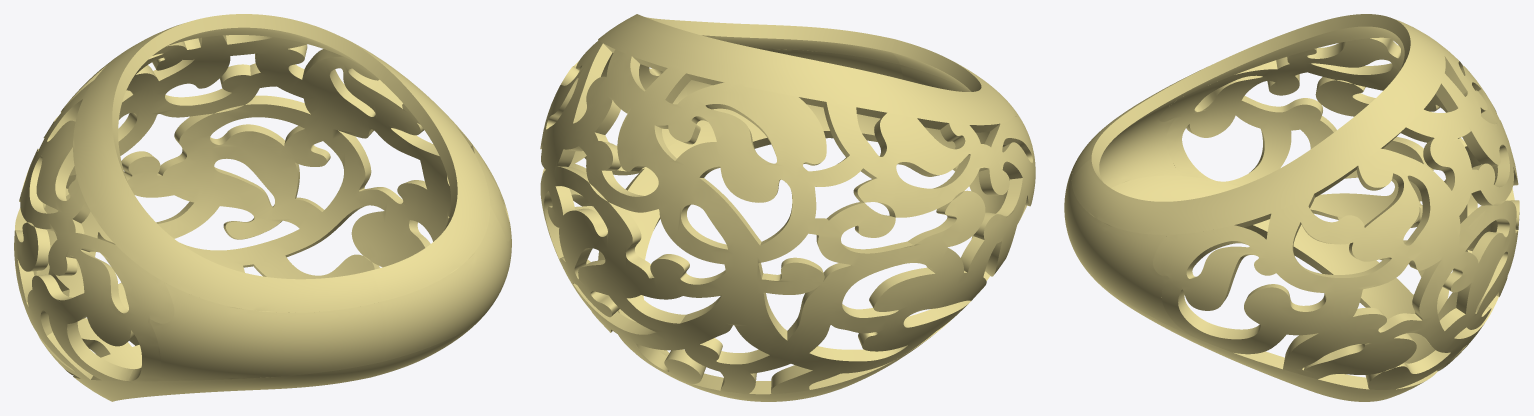
File: anelestamparia.glb
3 views of the same model, side by side, from view 1: azimuth 30°, elevation 25°; view 2: azimuth 150°, elevation 25°; view 3: azimuth 270°, elevation 25° (orthographic). The views are drawn at different scales.
Visible parts, largest first — view 1: 3DGeom~1_Defintion; view 2: 3DGeom~1_Defintion; view 3: 3DGeom~1_Defintion.
Part boxes in pixels (bbox=[...]): 3DGeom~1_Defintion: bbox=[14, 14, 511, 401]; 3DGeom~1_Defintion: bbox=[540, 14, 1035, 401]; 3DGeom~1_Defintion: bbox=[1064, 14, 1519, 401].
Bounding box in the file's own units: 25.35 × 20 × 25.06.
